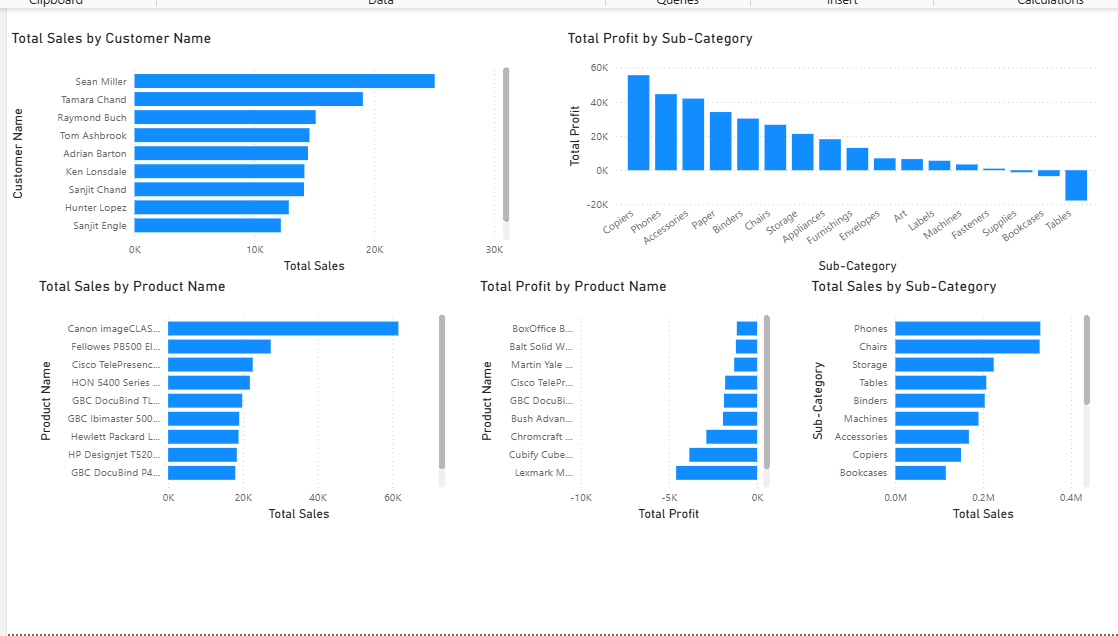

The page's visual inventory and layout, read from the dashboard file:
{"tool":"powerbi","page":{"name":"Customer & Product Analysis","canvas":[1280,720],"ordinal":1},"visuals":[{"type":"clusteredBarChart","fields":{"Category":["superstore_cleaned.Customer Name"],"Y":["superstore_cleaned.Total Sales"]},"box":[0,24.2,583.1,285.1],"z":0},{"type":"clusteredBarChart","fields":{"Category":["superstore_cleaned.Product Name"],"Y":["superstore_cleaned.Total Sales"]},"box":[31.4,309.4,477.6,285.1],"z":1000},{"type":"clusteredBarChart","fields":{"Category":["superstore_cleaned.Sub-Category"],"Y":["superstore_cleaned.Total Sales"]},"box":[919.6,309.4,330.8,285.1],"z":2000},{"type":"columnChart","fields":{"Y":["superstore_cleaned.Total Profit"],"Category":["superstore_cleaned.Sub-Category"]},"box":[640.1,24.2,620.2,285.1],"z":3000},{"type":"clusteredBarChart","fields":{"Category":["superstore_cleaned.Product Name"],"Y":["superstore_cleaned.Total Profit"]},"box":[538.9,309.4,343.6,285.1],"z":3001}]}

Visuals, with their boxes on the page's 1280x720 design canvas (x1, y1, x2, y2). These are canvas units, not pixel positions in the 1118x636 screenshot, which may show the page scaled, cropped or inside an application window:
clusteredBarChart - superstore_cleaned.Customer Name x superstore_cleaned.Total Sales: rect(0, 24, 583, 309)
clusteredBarChart - superstore_cleaned.Product Name x superstore_cleaned.Total Sales: rect(31, 309, 509, 594)
clusteredBarChart - superstore_cleaned.Sub-Category x superstore_cleaned.Total Sales: rect(920, 309, 1250, 594)
columnChart - superstore_cleaned.Total Profit x superstore_cleaned.Sub-Category: rect(640, 24, 1260, 309)
clusteredBarChart - superstore_cleaned.Product Name x superstore_cleaned.Total Profit: rect(539, 309, 882, 594)
